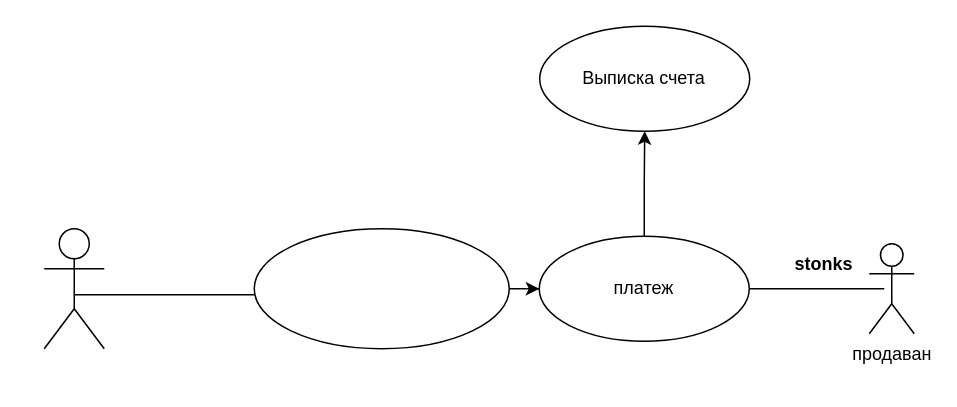
Some shapes in this 957 by 407 pixel diagram are drawn without their labels. Here are the shapes that lost their labels. From the top down, the centre of each, then its label:
(x=73, y=288): Покупатель
(x=381, y=288): Заказ товара/услуги
